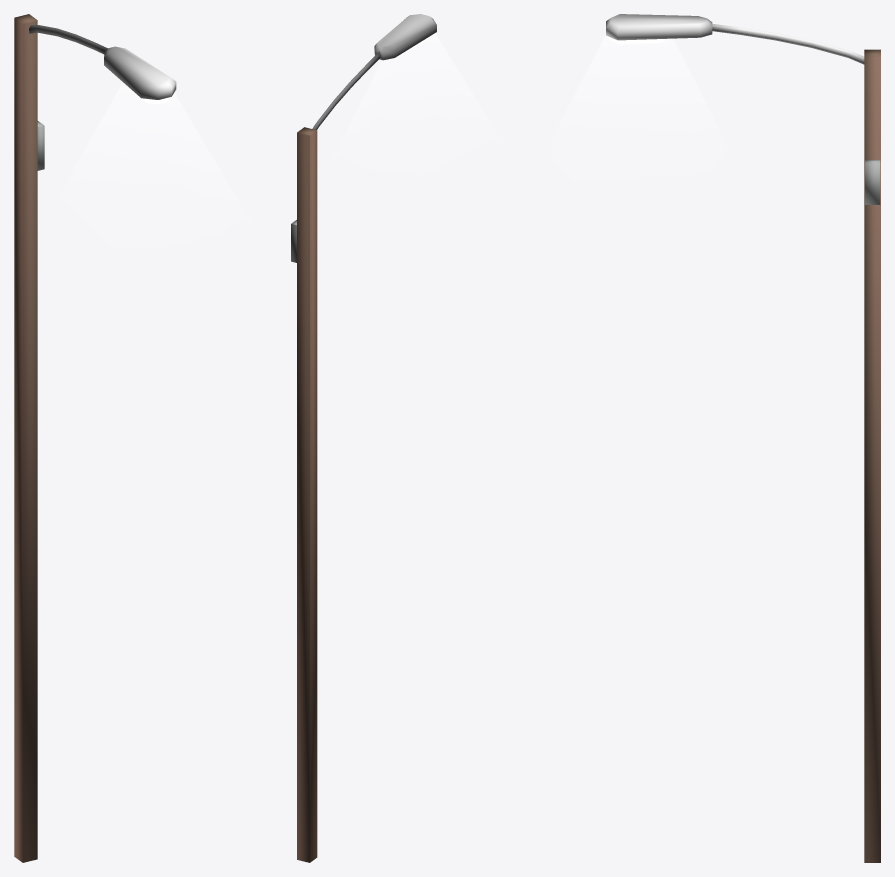
3 renders of one model, left to right at view 1: azimuth 30°, elevation 25°; view 2: azimuth 150°, elevation 25°; view 3: azimuth 270°, elevation 25°, orthographic. The views are drawn at different scales.
Parts seen in each view (by area): view 1: base.056; view 2: base.056; view 3: base.056.
Part boxes in pixels (left/top/right/bottom): base.056: left=14, top=14, right=237, bottom=862; base.056: left=291, top=14, right=489, bottom=862; base.056: left=559, top=14, right=880, bottom=862.
Bounding box in the file's own units: 0.0933 × 0.5 × 0.184.
